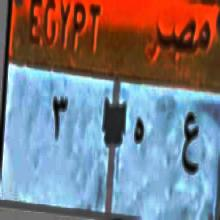3: (52, 91, 70, 145)
ain: (179, 104, 201, 185)
haa: (131, 110, 148, 157)
